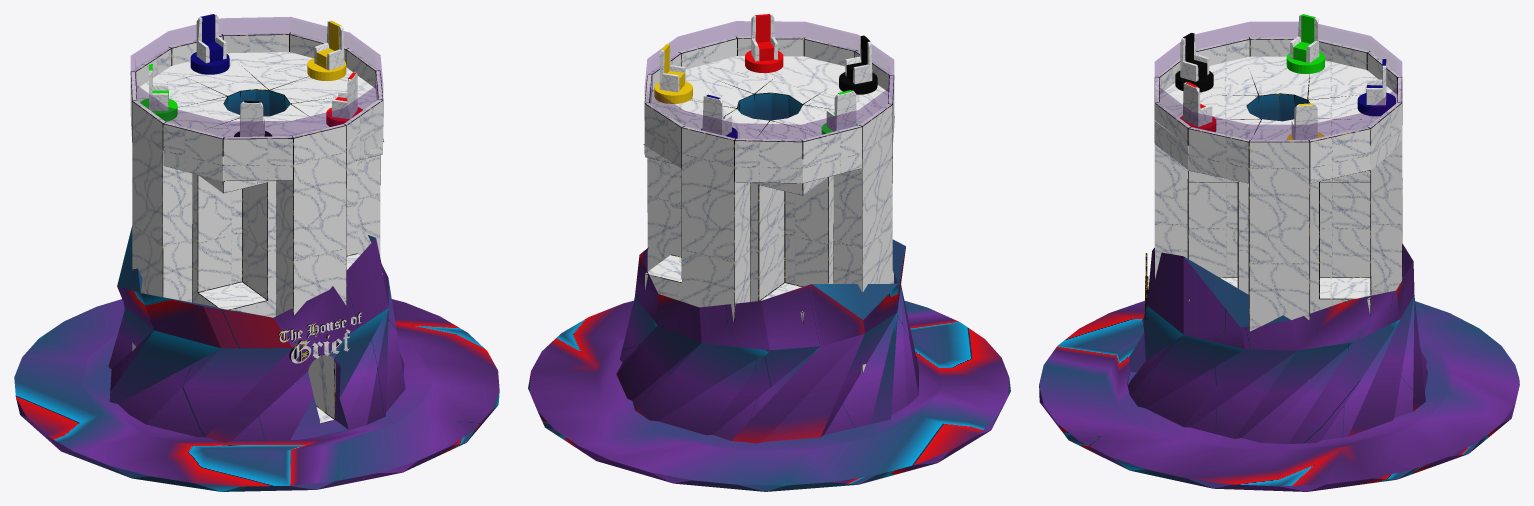
File: Wizard Tower.glb
The picture shows the model from 3 angles, left to right: view 1: azimuth 30°, elevation 25°; view 2: azimuth 150°, elevation 25°; view 3: azimuth 270°, elevation 25°; orthographic projection.
Parts seen in each view (by area): view 1: Pillar, Ground, Crystal, Pillar.001, Chairs, Platforms, Sign; view 2: Pillar, Crystal, Ground, Pillar.001, Chairs, Platforms; view 3: Pillar, Crystal, Ground, Pillar.001, Chairs, Platforms.
Boxes of the visible parts, box(x1,y1,x2,y2) form: Pillar: box(130, 32, 384, 423); Ground: box(14, 299, 499, 491); Crystal: box(108, 226, 405, 442); Pillar.001: box(131, 17, 382, 138); Chairs: box(149, 14, 357, 136); Platforms: box(140, 52, 362, 136); Sign: box(278, 312, 361, 363); Pillar: box(643, 36, 894, 373); Crystal: box(616, 239, 918, 443); Ground: box(528, 300, 1010, 491); Pillar.001: box(645, 21, 893, 141); Chairs: box(659, 14, 872, 135); Platforms: box(654, 50, 877, 138); Pillar: box(1154, 37, 1402, 379); Crystal: box(1127, 243, 1427, 443); Ground: box(1039, 300, 1519, 491); Pillar.001: box(1155, 22, 1401, 141); Chairs: box(1180, 14, 1386, 139); Platforms: box(1175, 51, 1395, 139).
Bounding box in the file's own units: 22.86 × 17.33 × 22.86.
9 materials, 3 textured.
